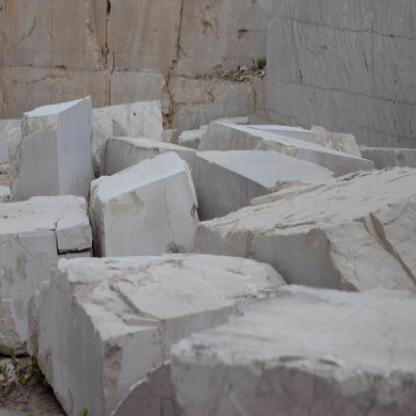Sedimentary_Limestone: (43, 231, 281, 415), (174, 269, 416, 415), (80, 149, 202, 415), (1, 87, 100, 238), (1, 192, 88, 355)
